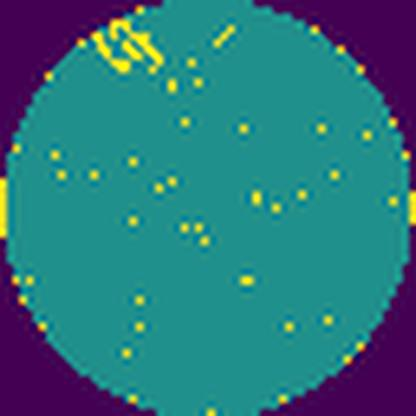Loc: (93, 20, 167, 74)
